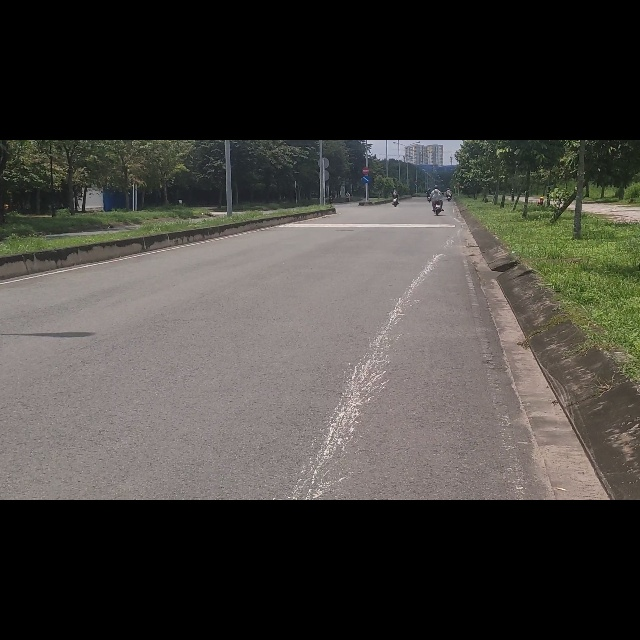bien_cam: (362, 63, 370, 77), (362, 48, 370, 61)
